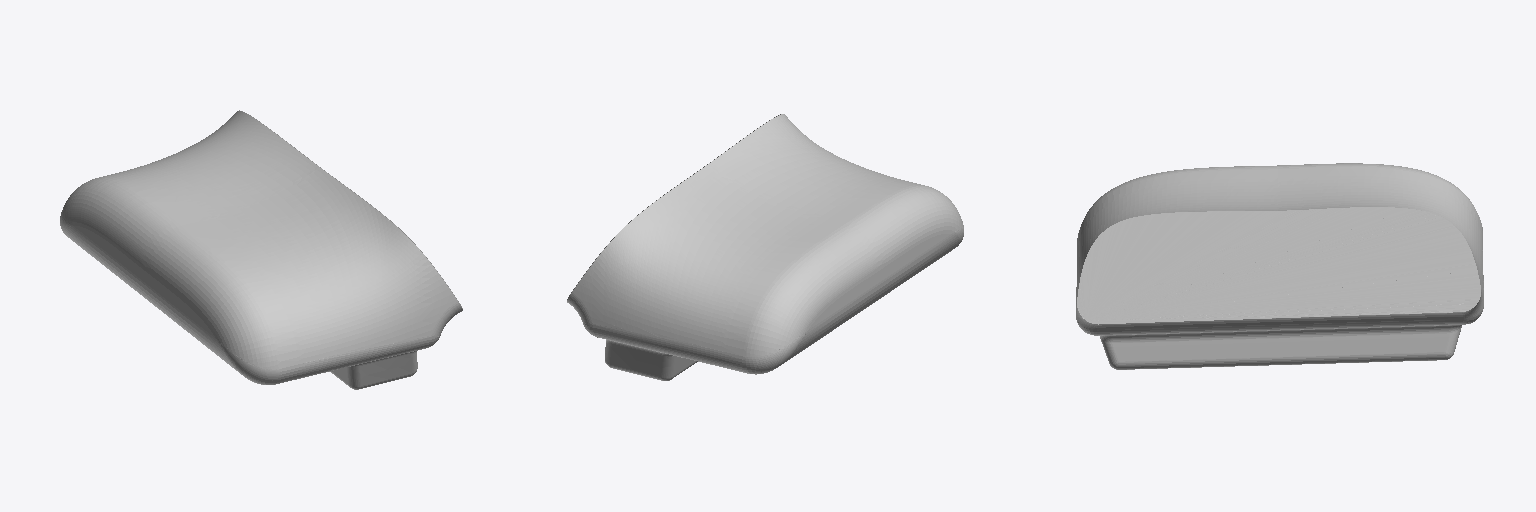
File: CAD softgripper_slice8.obj
3 renders of one model, left to right at view 1: azimuth 30°, elevation 25°; view 2: azimuth 150°, elevation 25°; view 3: azimuth 270°, elevation 25°, orthographic.
Visible parts, largest first — view 1: SG.AN.F1.001; view 2: SG.AN.F1.001; view 3: SG.AN.F1.001.
Part boxes in pixels (left/top/right/bottom): SG.AN.F1.001: left=60, top=110, right=462, bottom=389; SG.AN.F1.001: left=567, top=114, right=963, bottom=380; SG.AN.F1.001: left=1076, top=163, right=1483, bottom=369.
Bounding box in the file's own units: 0.0125 × 0.0084 × 0.0199.